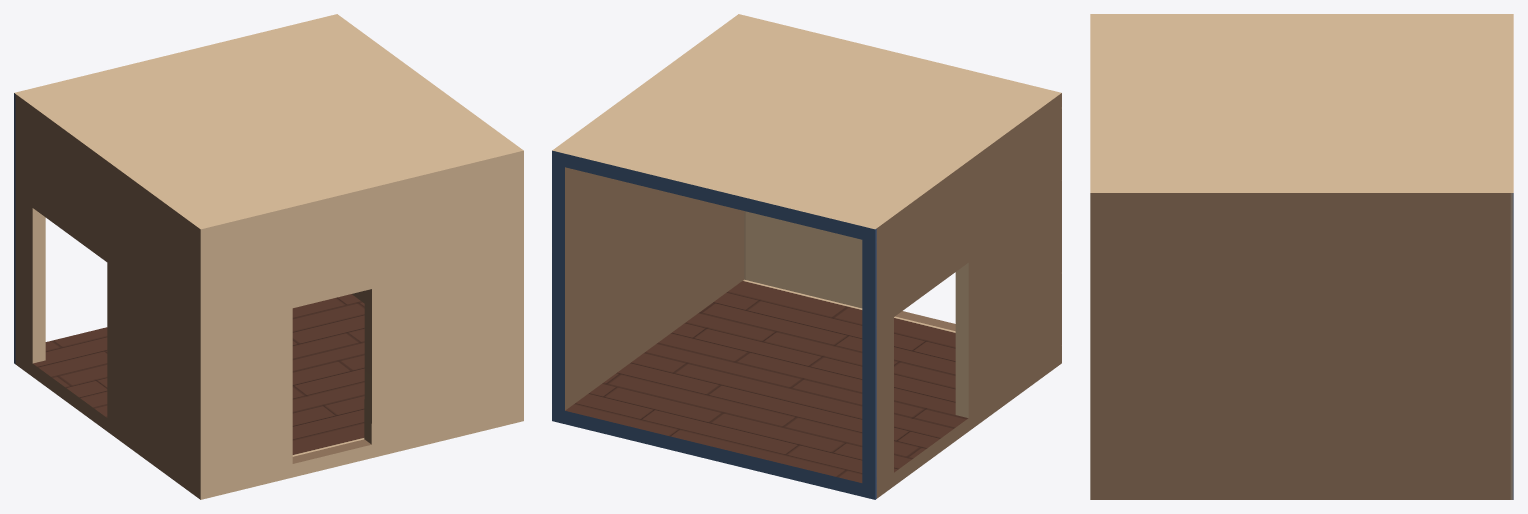
The model's file is Hallway1UP_Right_1Door.fbx.
The picture shows the model from 3 angles, left to right: view 1: azimuth 30°, elevation 25°; view 2: azimuth 150°, elevation 25°; view 3: azimuth 270°, elevation 25°; orthographic projection. The views are drawn at different scales.
Parts seen in each view (by area): view 1: HallWay_Right_onedoor; view 2: HallWay_Right_onedoor; view 3: HallWay_Right_onedoor.
Boxes of the visible parts, x1,y1,x2,y2 form: HallWay_Right_onedoor: (14,14,523,499); HallWay_Right_onedoor: (552,14,1061,499); HallWay_Right_onedoor: (1090,14,1513,499).
Bounding box in the file's own units: 500 × 400 × 500.
